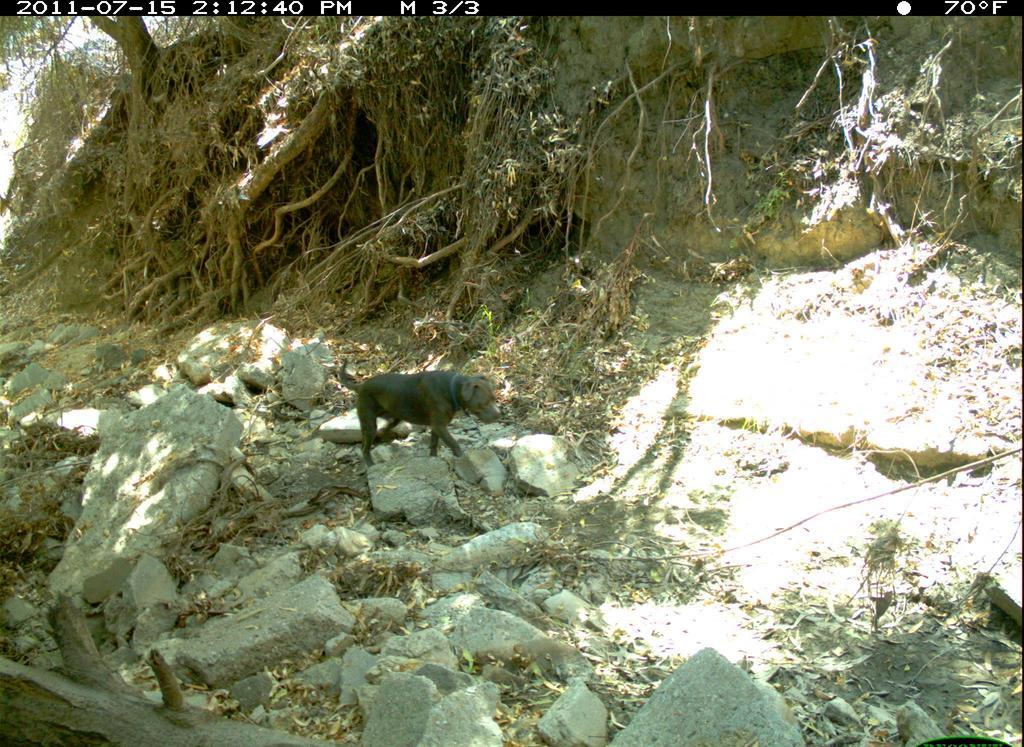dog: (336, 350, 514, 475)
